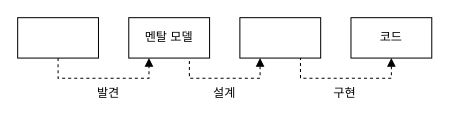
Image size: 449x126. Some labels were removed from this diagram. The centre of each missing label's shape, as x and y in pixels:
도메인 지식: point (57, 37)
솔루션 모델: point (280, 37)
